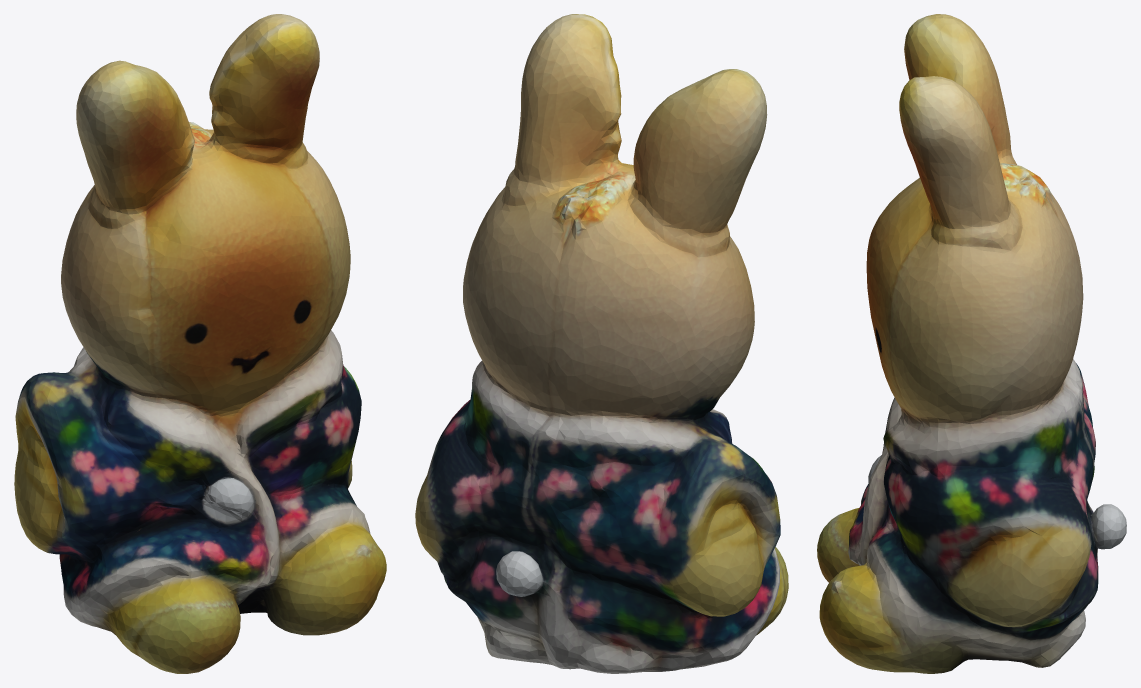
3 views of the same model, side by side, from view 1: azimuth 30°, elevation 25°; view 2: azimuth 150°, elevation 25°; view 3: azimuth 270°, elevation 25° (orthographic). The views are drawn at different scales.
Parts seen in each view (by area): view 1: world; view 2: world; view 3: world.
Boxes of the visible parts, left/top/right/bottom form: world: left=14, top=14, right=386, bottom=673; world: left=415, top=14, right=788, bottom=673; world: left=817, top=14, right=1126, bottom=673.
Bounding box in the file's own units: 0.557 × 0.9996 × 0.4874.
Materials: 1 (1 with a texture image).
